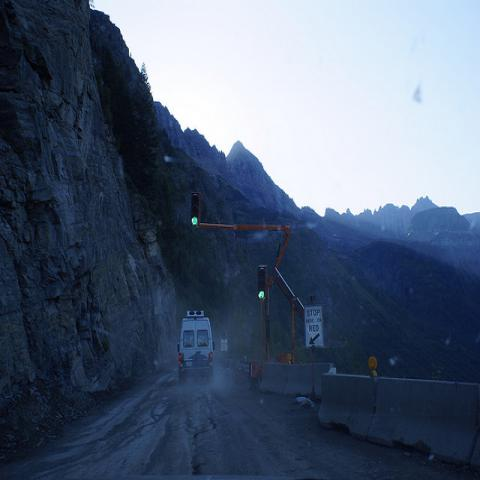bus: (177, 310, 215, 384)
truck: (177, 308, 216, 383)
